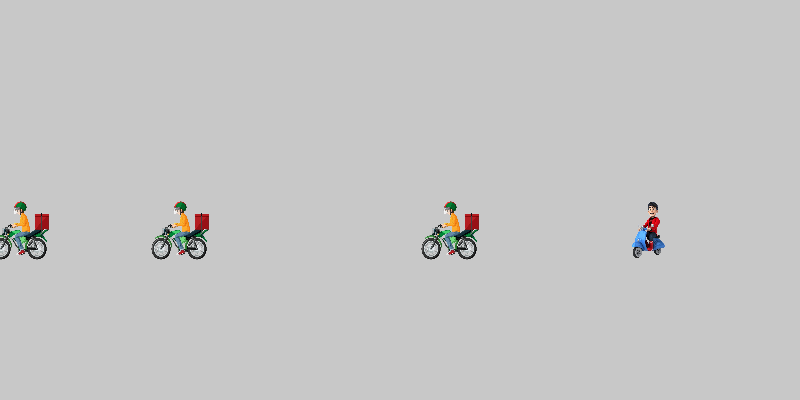helmet: (150, 200, 210, 260), (420, 200, 480, 260), (0, 200, 50, 260)
no_helmet: (620, 200, 680, 260)
